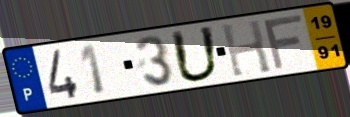1: (79, 41, 107, 98)
3: (133, 33, 177, 90)
4: (47, 48, 80, 101)
F: (261, 12, 306, 73)
H: (219, 17, 274, 79)
U: (168, 24, 223, 85)
